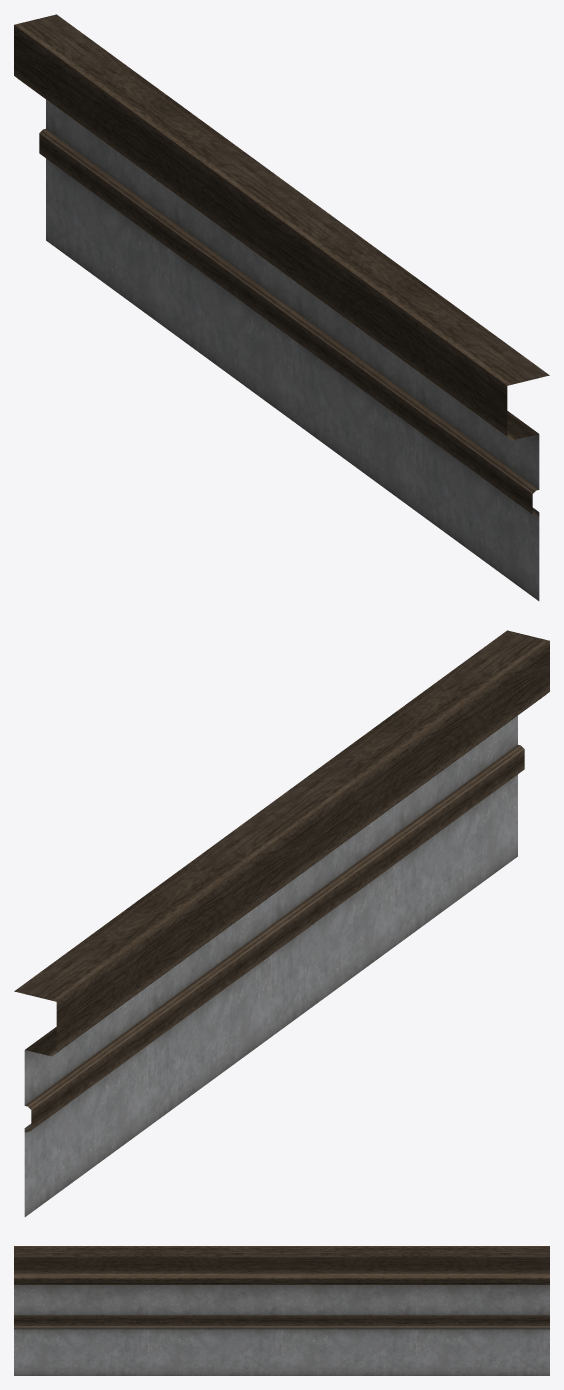
Rendered from Wall Interior Top 8x2 Plaster B.fbx.
The picture shows the model from 3 angles, top to bottom: view 1: azimuth 30°, elevation 25°; view 2: azimuth 150°, elevation 25°; view 3: azimuth 270°, elevation 25°; orthographic projection. The views are drawn at different scales.
Parts seen in each view (by area): view 1: Wall Interior Top 8x2 Plaster B; view 2: Wall Interior Top 8x2 Plaster B; view 3: Wall Interior Top 8x2 Plaster B.
Boxes of the visible parts, bbox=[...] form: Wall Interior Top 8x2 Plaster B: bbox=[14, 14, 549, 600]; Wall Interior Top 8x2 Plaster B: bbox=[14, 630, 549, 1216]; Wall Interior Top 8x2 Plaster B: bbox=[14, 1246, 549, 1375].
Bounding box in the file's own units: 0.4 × 2 × 8.
